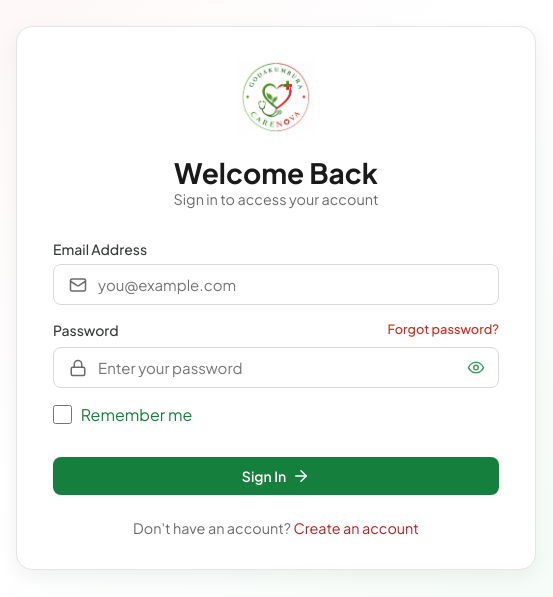
Test: LoginPage › shows email format validation message
In the field labelled "Email Address": coordinates (276, 285) 53,264 -> 499,305, type "invalid-email"
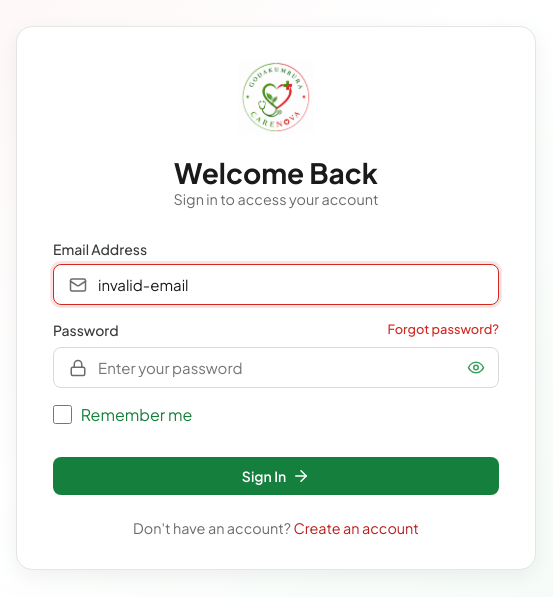
In the password field labelled "Password": coordinates (276, 368) 53,347 -> 499,388, type "SecurePass123"
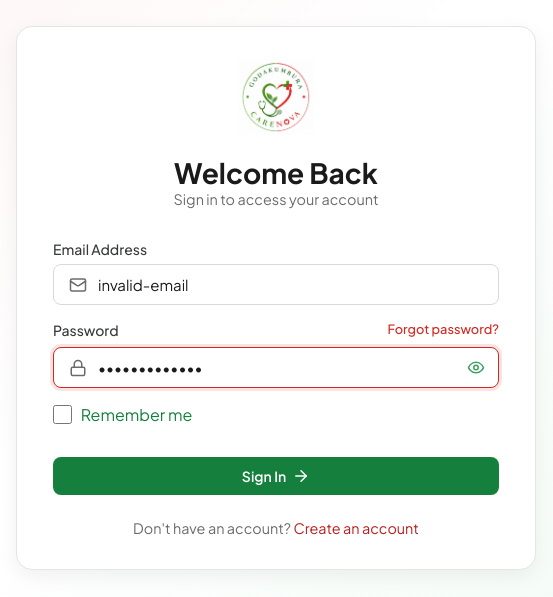
Click the button "Sign In": coordinates (276, 476) 53,457 -> 499,495
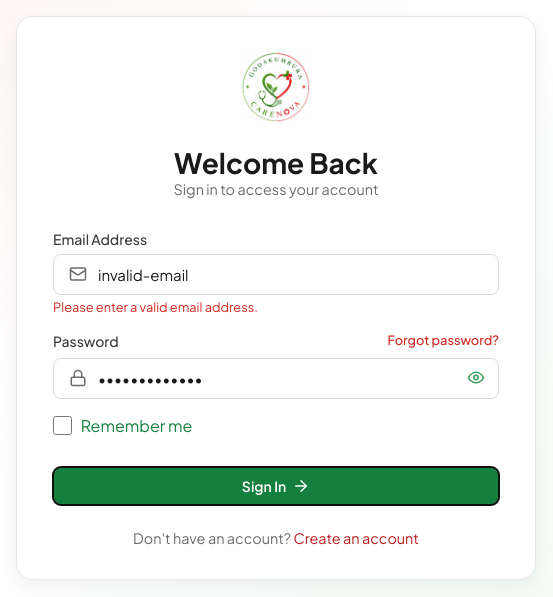
Now the text "Please enter a valid email address." is shown, box 53,299 -> 258,315
